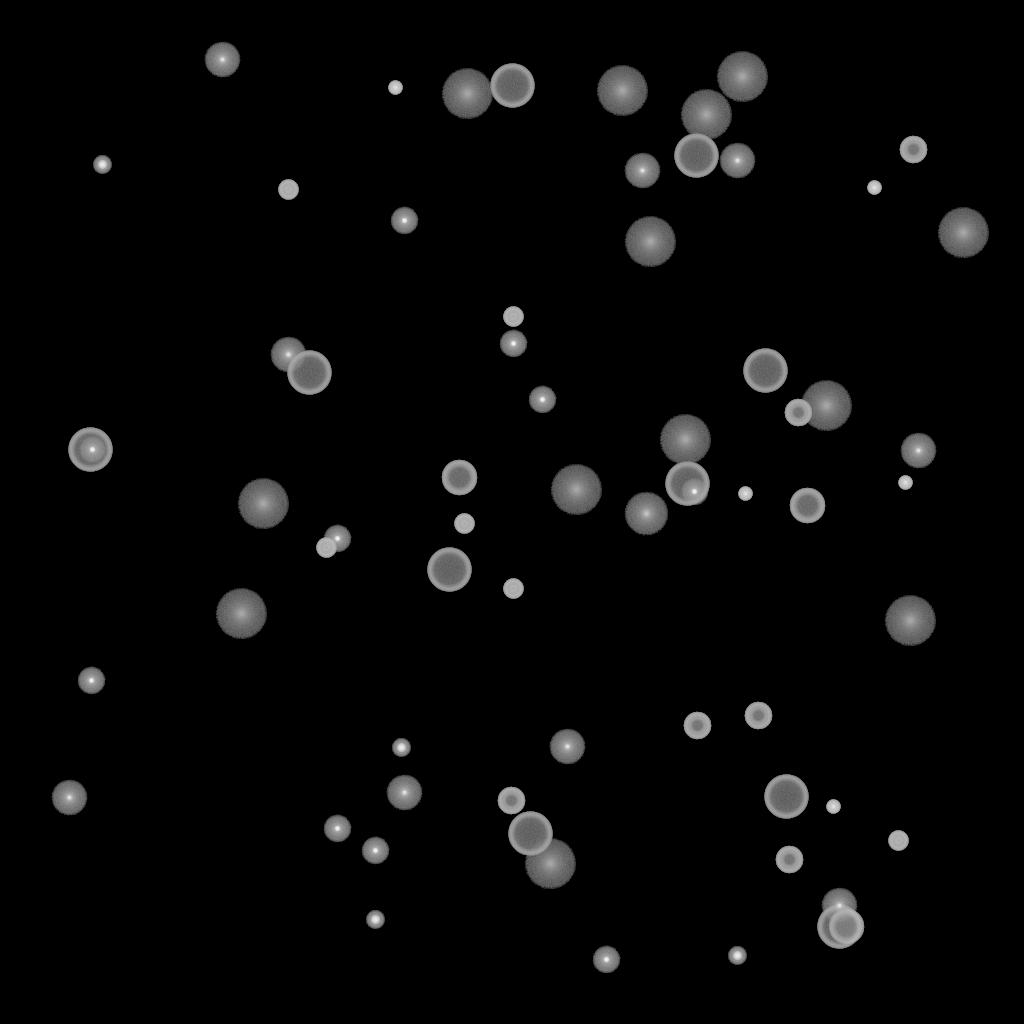depth:-10: (528, 386, 556, 414), (77, 667, 105, 695), (390, 207, 418, 235), (499, 330, 527, 358), (592, 946, 620, 974), (361, 837, 389, 865), (323, 525, 351, 553), (78, 436, 106, 464), (323, 815, 351, 843), (680, 478, 708, 506)
depth:-20: (728, 947, 746, 965), (392, 739, 410, 757), (93, 156, 111, 174), (366, 911, 384, 929)
depth:-30: (898, 476, 912, 490), (826, 800, 840, 814), (738, 487, 752, 501), (388, 81, 402, 95), (867, 181, 881, 195)
depth:-40: (888, 831, 908, 851), (316, 538, 336, 558), (503, 579, 523, 599), (503, 307, 523, 327), (454, 514, 474, 534), (278, 180, 298, 200)
depth:-50: (775, 846, 803, 874), (899, 136, 927, 164), (497, 787, 525, 815), (744, 702, 772, 730), (683, 712, 711, 740), (784, 399, 812, 427)
depth:-60: (828, 909, 864, 945), (789, 488, 825, 524), (441, 460, 477, 496)
depth:-70: (674, 134, 718, 178), (287, 351, 331, 395), (764, 775, 808, 819), (427, 548, 471, 592), (508, 812, 552, 856), (68, 428, 112, 472), (817, 905, 861, 949), (743, 349, 787, 393), (665, 462, 709, 506), (490, 64, 534, 108)
depth:0: (549, 729, 585, 765), (204, 42, 240, 78), (386, 775, 422, 811), (719, 143, 755, 179), (51, 780, 87, 816), (270, 337, 306, 373), (624, 153, 660, 189), (900, 433, 936, 469), (821, 888, 857, 924)
depth:10: (624, 492, 668, 536)
depth:20: (524, 839, 576, 889), (441, 69, 493, 119), (237, 479, 289, 529), (680, 90, 732, 140), (884, 596, 936, 646), (624, 217, 676, 267), (596, 66, 648, 116), (215, 589, 267, 639), (800, 381, 852, 431), (716, 52, 768, 102), (937, 208, 989, 258), (550, 465, 602, 515), (659, 415, 711, 465)
